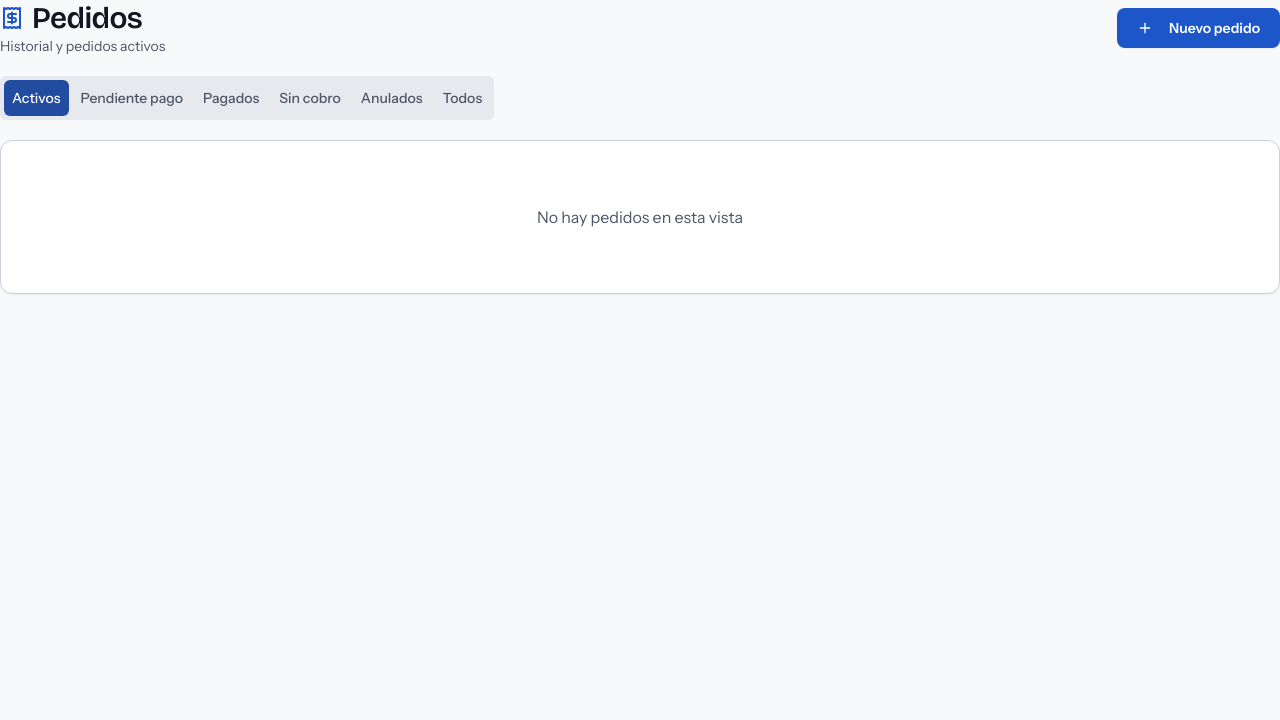
it: T11 · pantallas de administración que fingían estar vacías o cargando › elegir mesa en Pedidos no dice «No hay mesas disponibles» si las mesas no cargaron
Click the button "Nuevo pedido": coordinates (1199, 28) [1117, 8, 1279, 48]
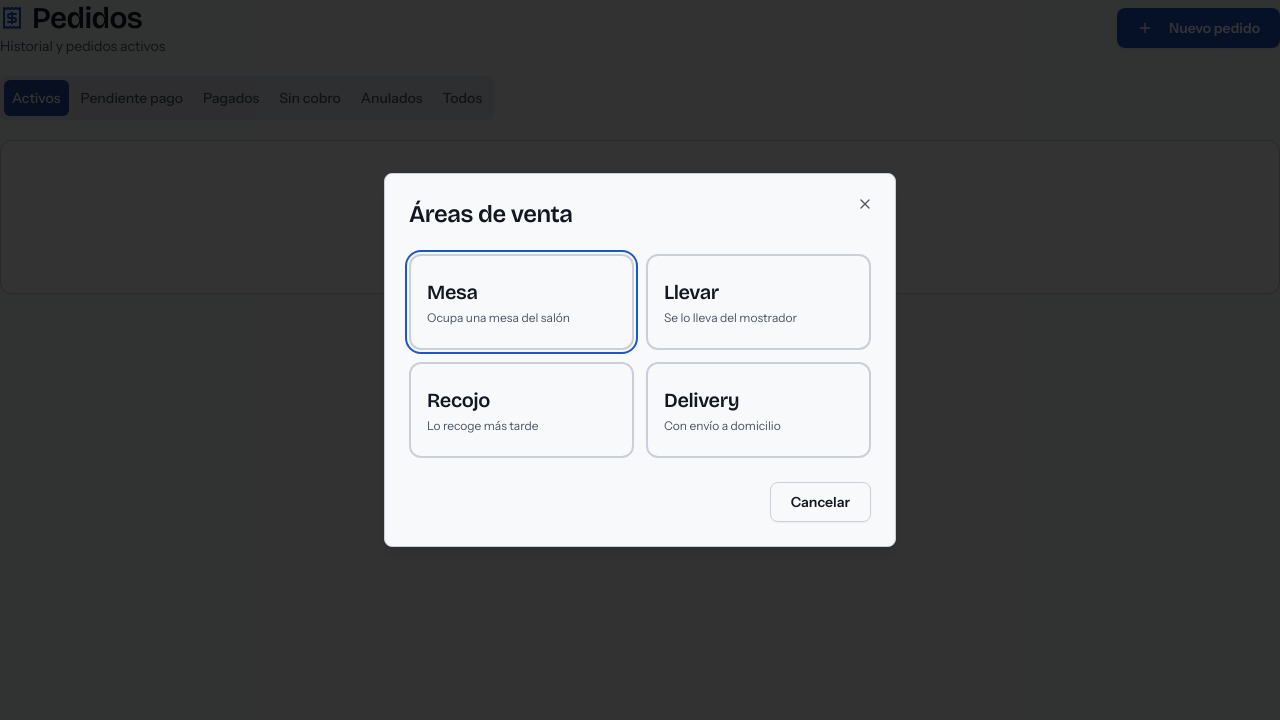
Click the button with test id "area-mesa": coordinates (522, 302) [409, 254, 634, 350]
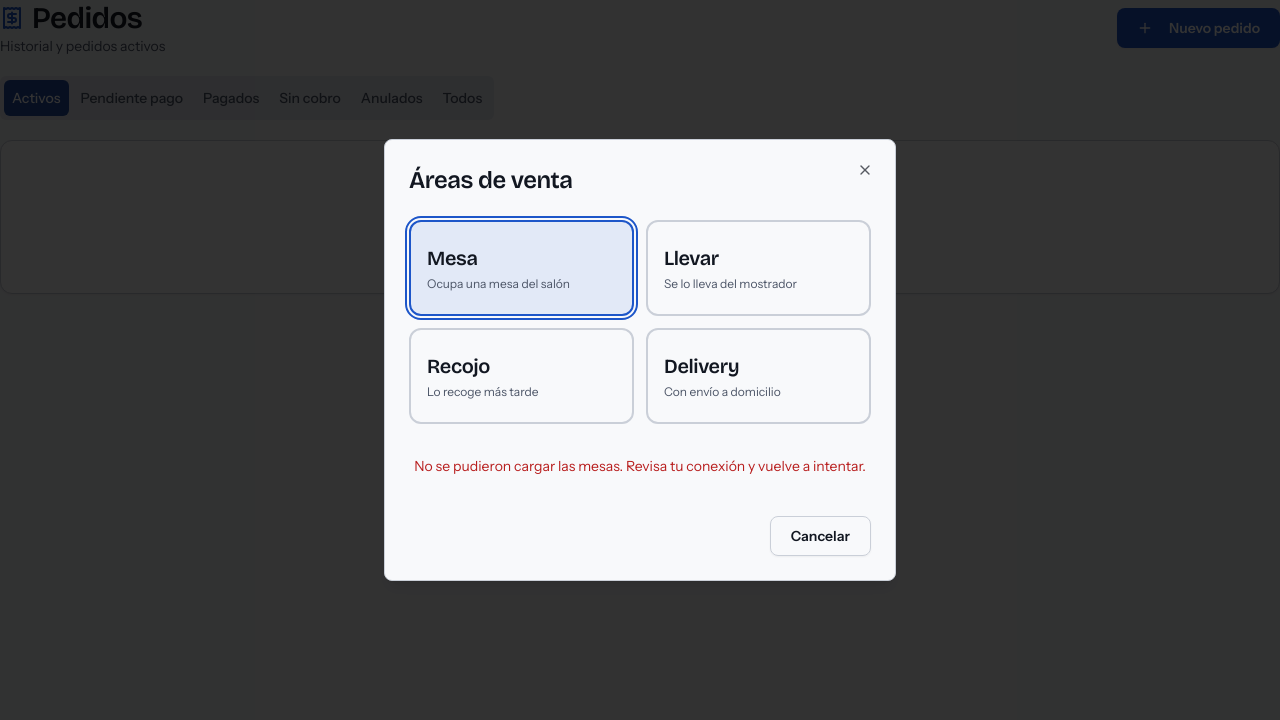
Expected: the message "No se pudieron cargar las mesas. Revisa tu conexión y vuelve a intentar." is shown, [414, 457, 866, 475]
